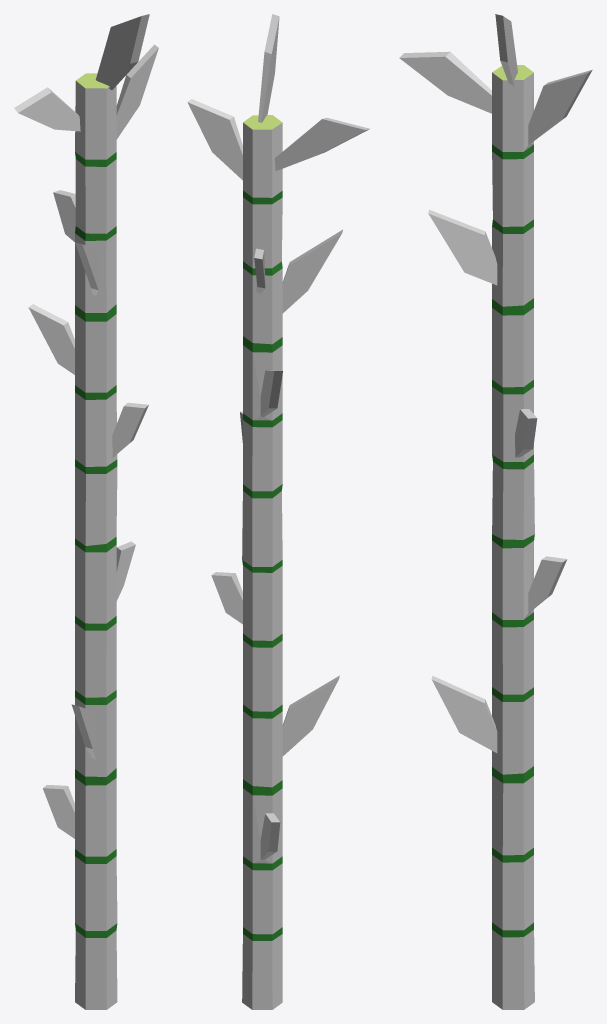
Rendered from sugarcane-harvest.glb.
The picture shows the model from 3 angles, left to right: view 1: azimuth 30°, elevation 25°; view 2: azimuth 150°, elevation 25°; view 3: azimuth 330°, elevation 25°; orthographic projection. The views are drawn at different scales.
Parts seen in each view (by area): view 1: Cylinder.001; view 2: Cylinder.001; view 3: Cylinder.001.
Part boxes in pixels (bbox=[...]): Cylinder.001: bbox=[14, 14, 158, 1009]; Cylinder.001: bbox=[187, 14, 370, 1009]; Cylinder.001: bbox=[399, 14, 592, 1009].
Bounding box in the file's own units: 3.46 × 20.26 × 2.21.
